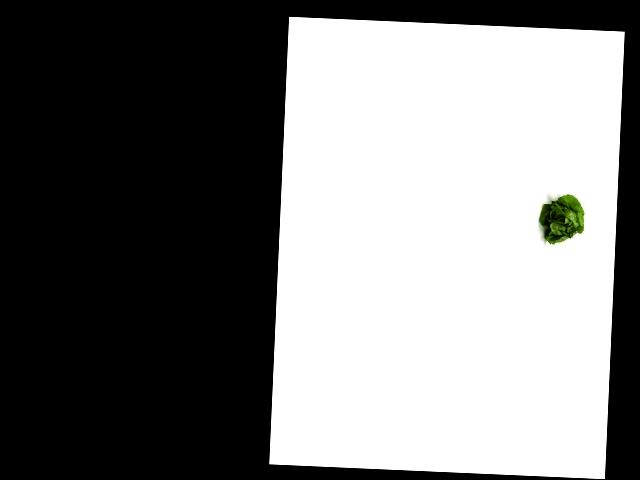lettuce: (535, 192, 589, 247)
